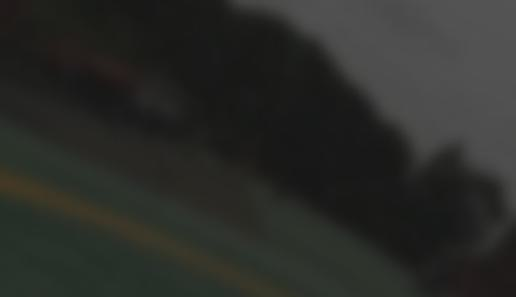Apron: (1, 160, 321, 297)
